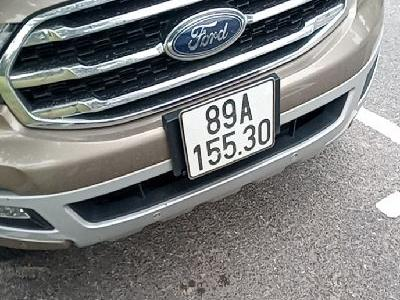lisence: (178, 77, 277, 182)
